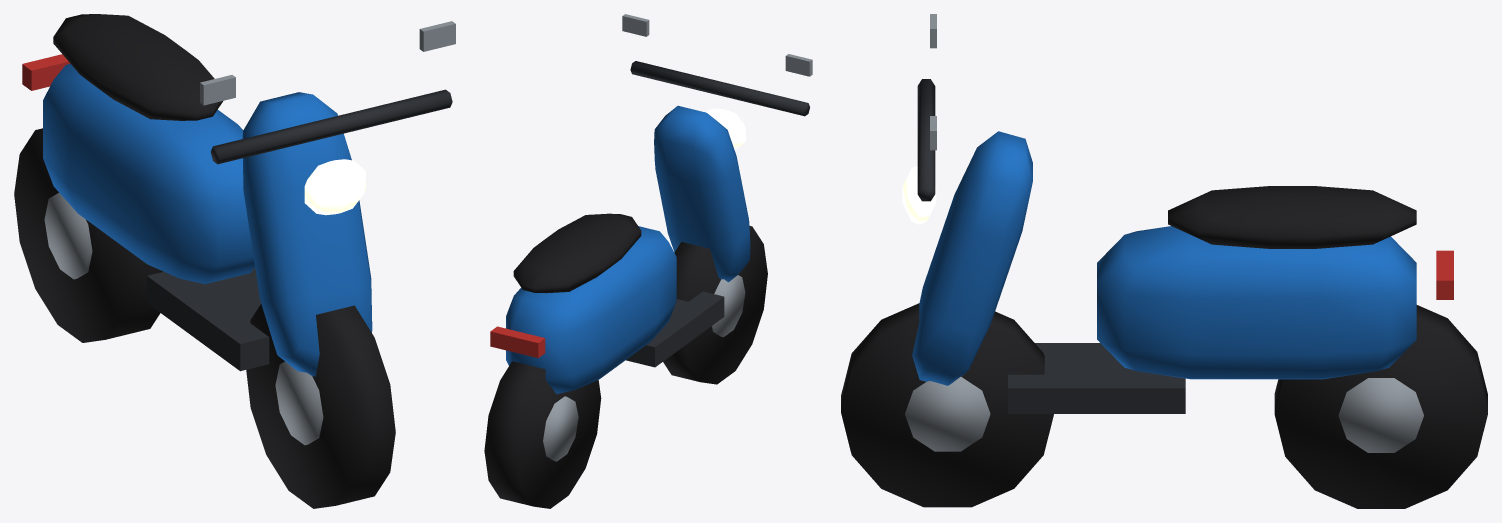
Rendered from prop_motor_biru.glb.
3 views of the same model, side by side, from view 1: azimuth 30°, elevation 25°; view 2: azimuth 150°, elevation 25°; view 3: azimuth 270°, elevation 25° (orthographic). The views are drawn at different scales.
Visible parts, largest first — view 1: motor_biru; view 2: motor_biru; view 3: motor_biru.
Boxes of the visible parts, x1,y1,x2,y2 form: motor_biru: [14, 14, 455, 508]; motor_biru: [484, 14, 812, 508]; motor_biru: [841, 14, 1487, 508].
Size of the model in its own units: 0.78 by 1.32 by 1.82.
